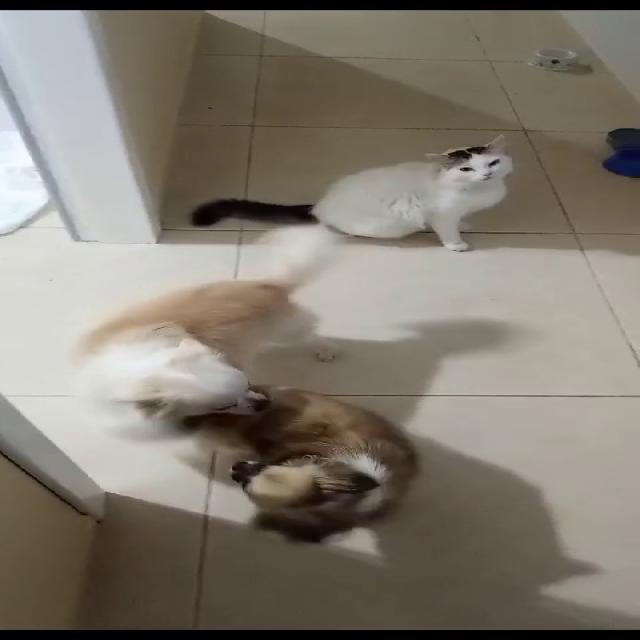Pedrita: (54, 370, 459, 556)
Simba: (313, 117, 592, 298)
Theo: (77, 251, 353, 420)
